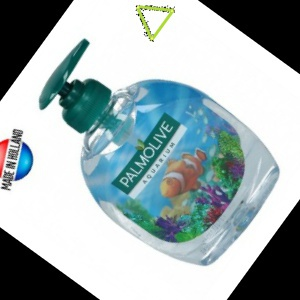triangle: (133, 3, 177, 43)
